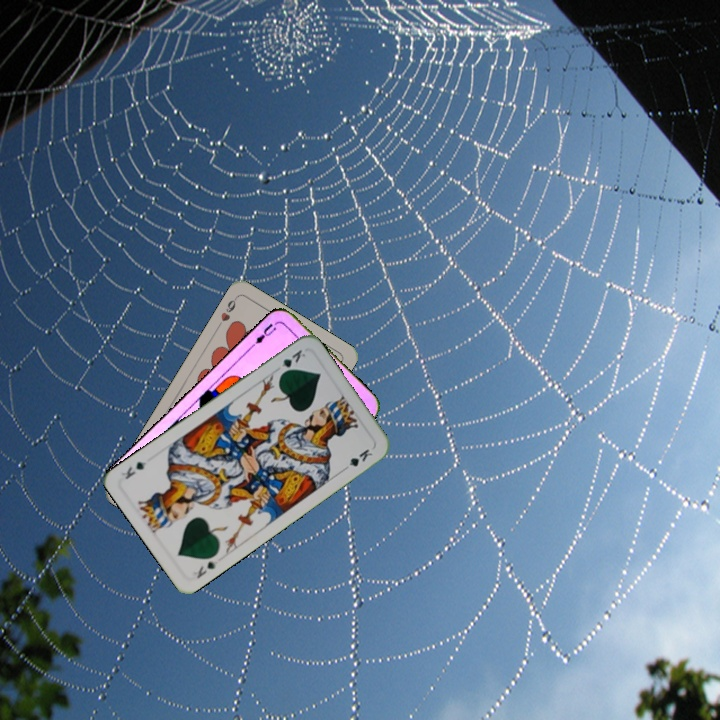EU: (248, 318, 281, 349)
GK: (276, 345, 308, 378), (192, 557, 220, 581)
H9: (214, 293, 240, 330)
